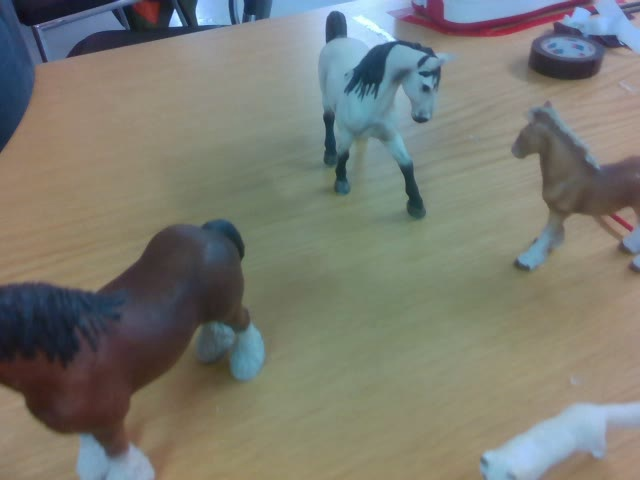toy: (319, 11, 452, 218)
